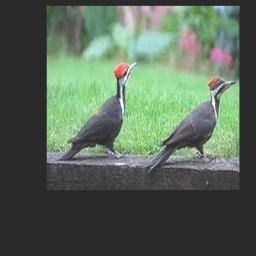Woodpecker: (146, 75, 236, 172), (59, 61, 138, 160)
